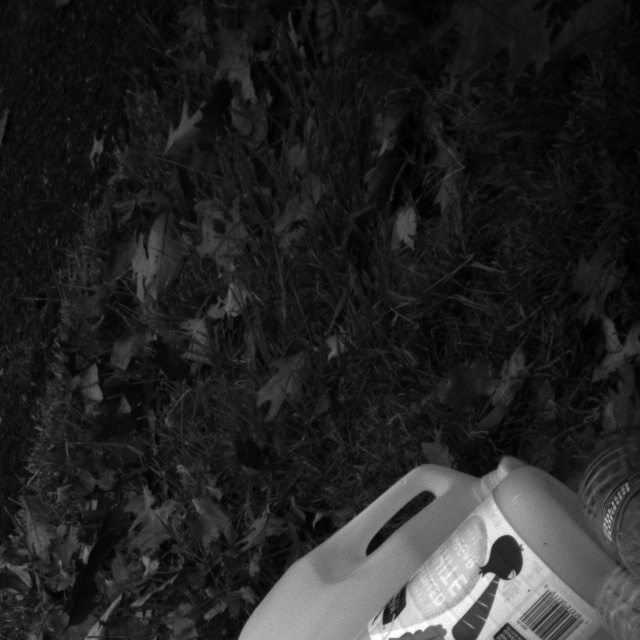can: (247, 441, 640, 640), (211, 446, 509, 640)
